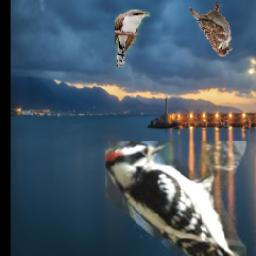Cuckoo: (115, 11, 151, 68)
Sparrow: (188, 2, 232, 56)
Woodpecker: (104, 141, 245, 256)
